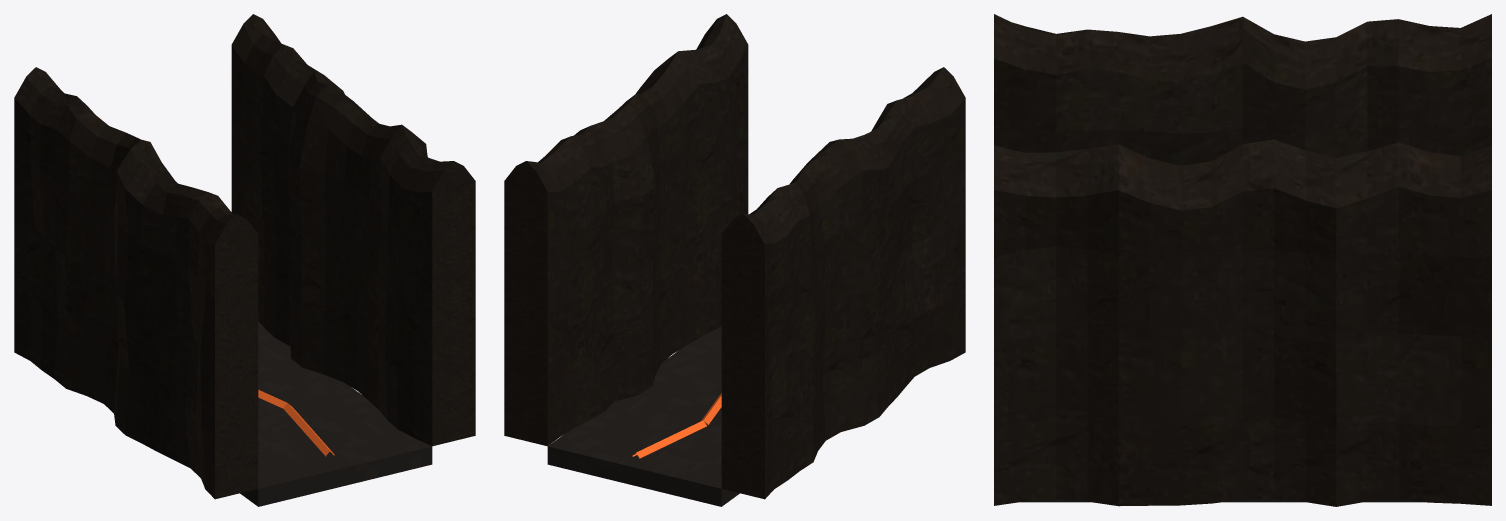
File: cave_corridor_01_lava.glb
The picture shows the model from 3 angles, left to right: view 1: azimuth 30°, elevation 25°; view 2: azimuth 150°, elevation 25°; view 3: azimuth 270°, elevation 25°; orthographic projection. The views are drawn at different scales.
Parts seen in each view (by area): view 1: cave_corridor_01_lava; view 2: cave_corridor_01_lava; view 3: cave_corridor_01_lava.
Boxes of the visible parts, x1,y1,x2,y2 form: cave_corridor_01_lava: (14, 14, 475, 506); cave_corridor_01_lava: (504, 14, 965, 506); cave_corridor_01_lava: (994, 14, 1491, 506).
Bounding box in the file's own units: 3.09 × 3.28 × 4.
3 materials, 2 textured.
